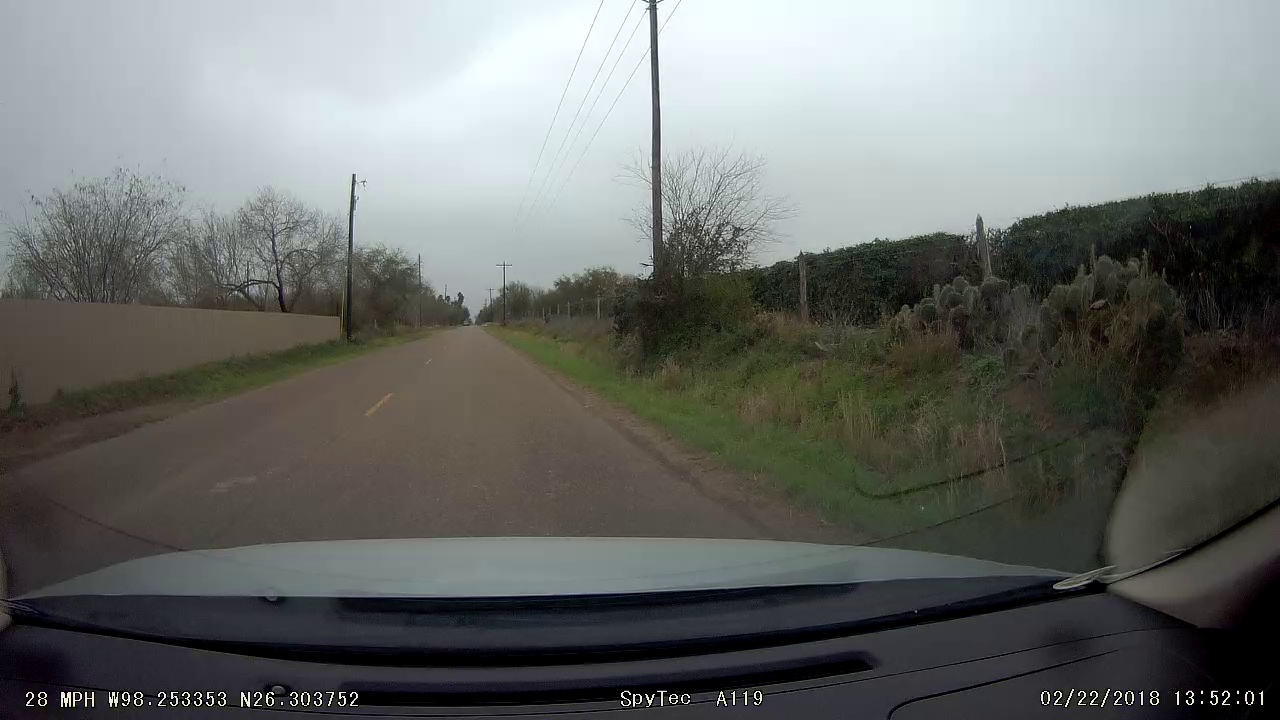blurredLine: (355, 389, 399, 425)
